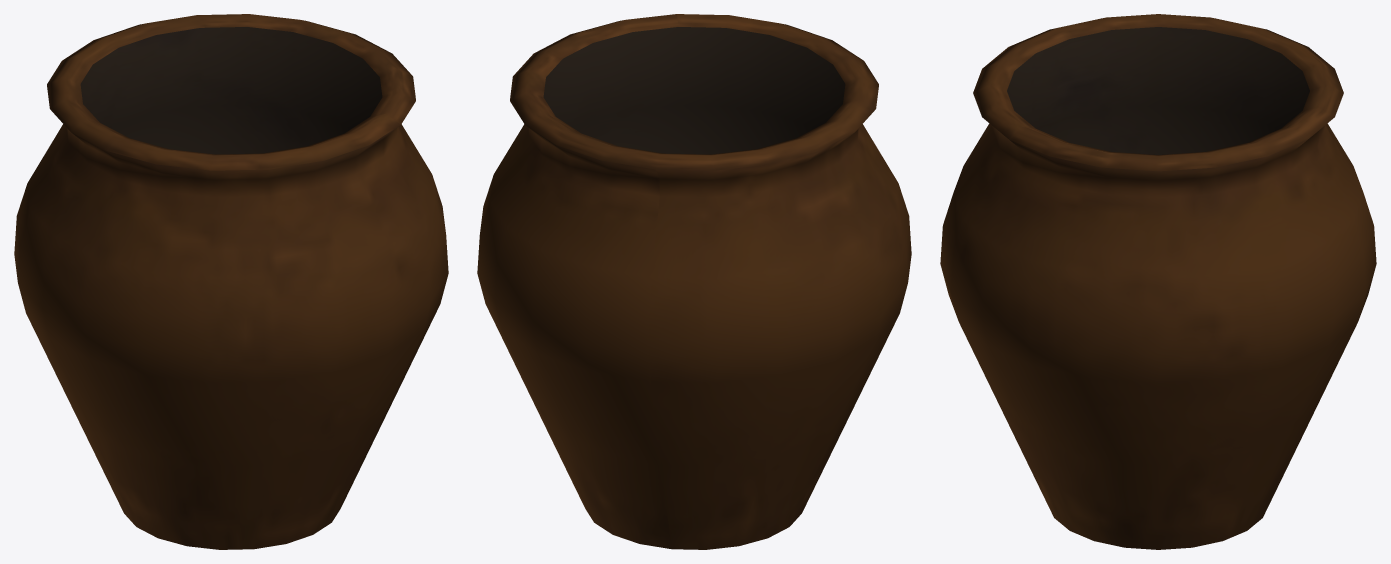
File: Vase_1.gltf
3 views of the same model, side by side, from view 1: azimuth 30°, elevation 25°; view 2: azimuth 150°, elevation 25°; view 3: azimuth 270°, elevation 25° (orthographic).
Parts seen in each view (by area): view 1: Vase_1; view 2: Vase_1; view 3: Vase_1.
Part boxes in pixels (x1,y1,x2,y2): Vase_1: [14, 14, 448, 549]; Vase_1: [477, 14, 911, 549]; Vase_1: [940, 14, 1376, 549].
Bounding box in the file's own units: 0.6674 × 0.7064 × 0.6674.
Materials: 1 (1 with a texture image).
